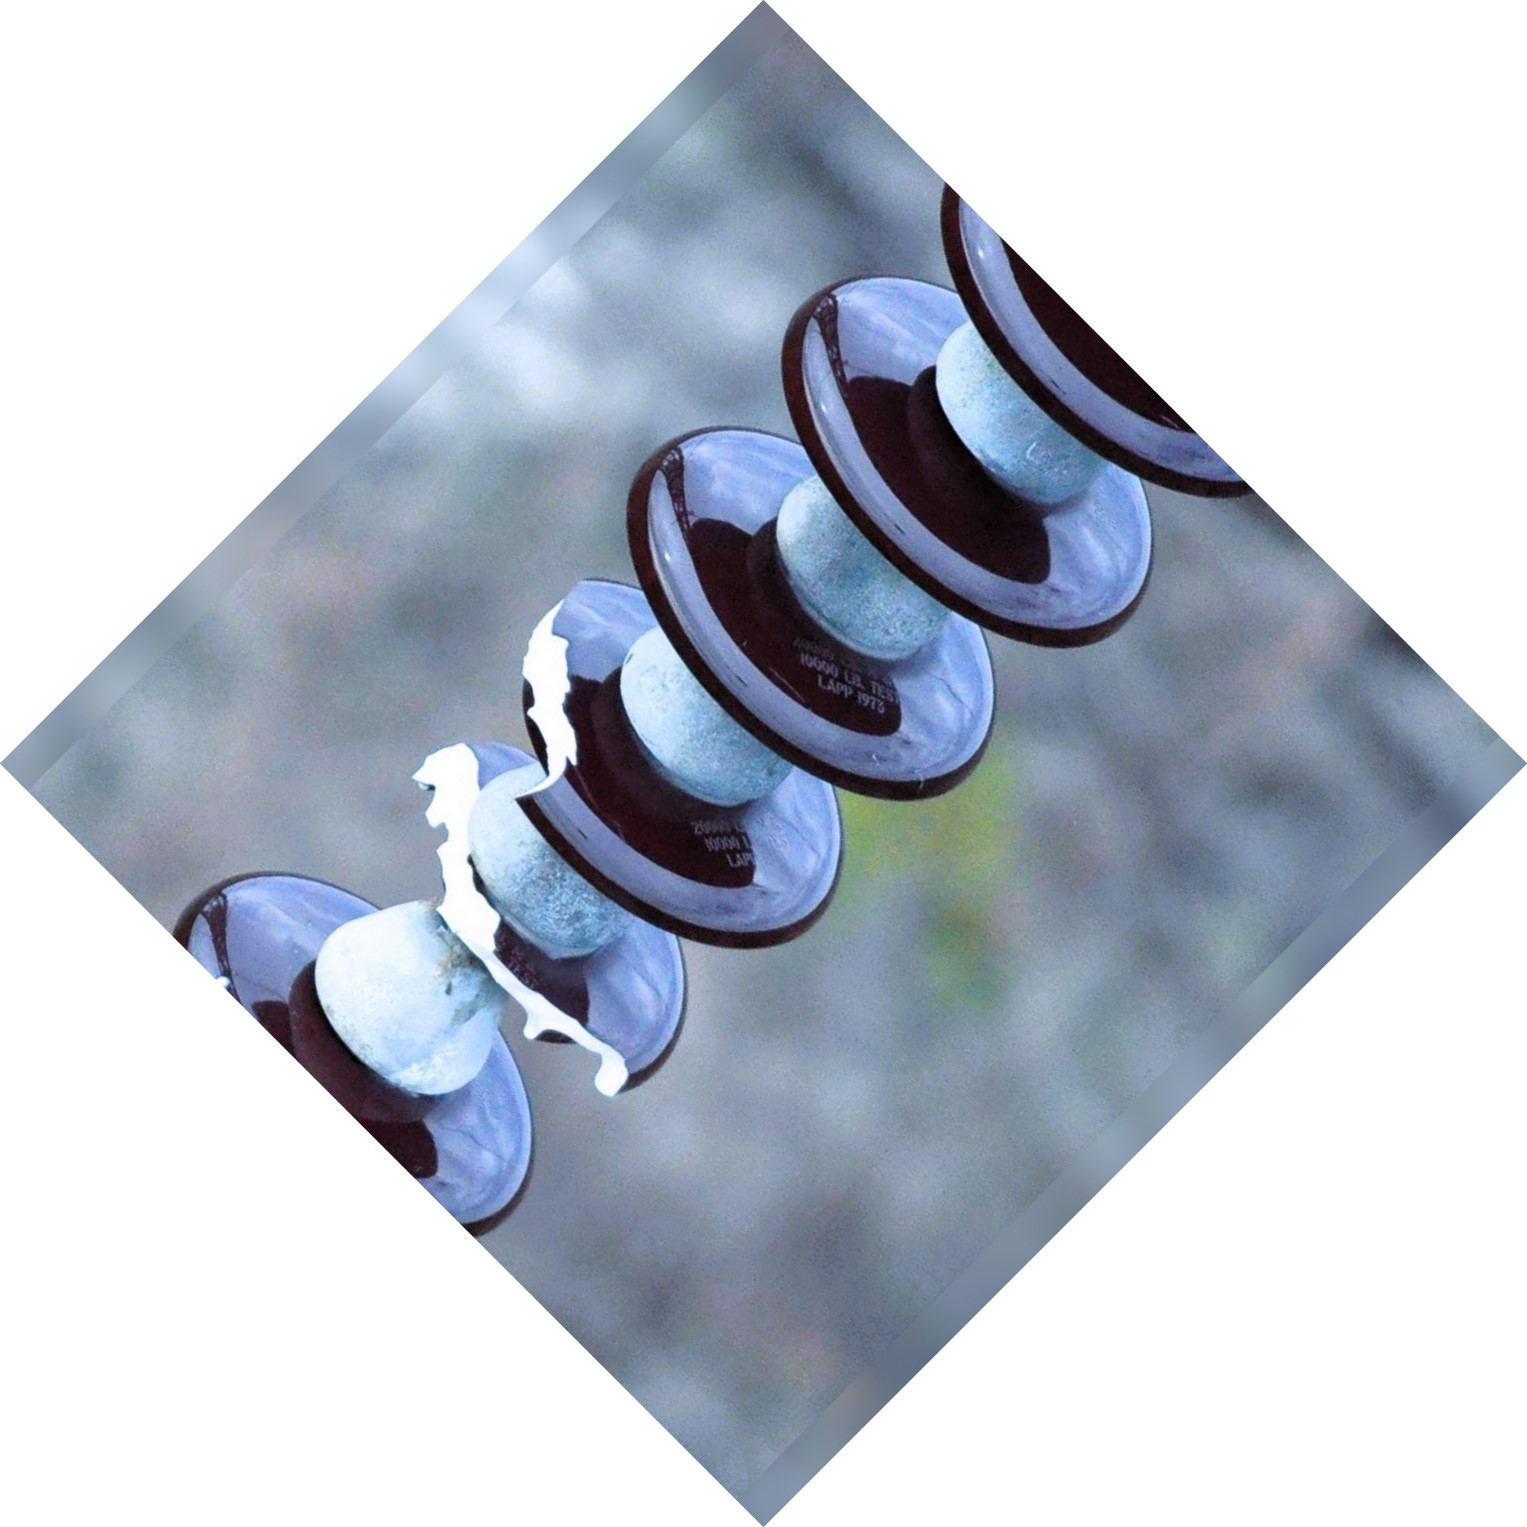insulator breakage: (403, 552, 853, 1121)
